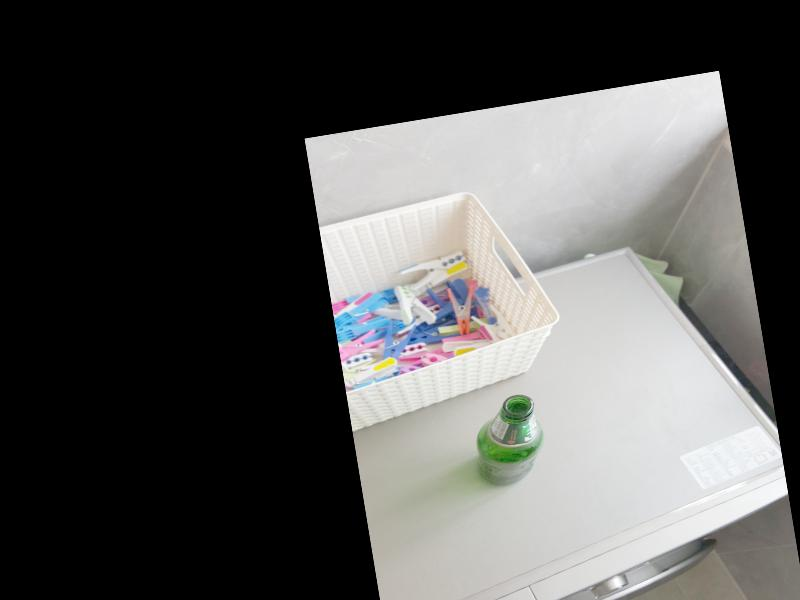Beer: (468, 393, 546, 491)
